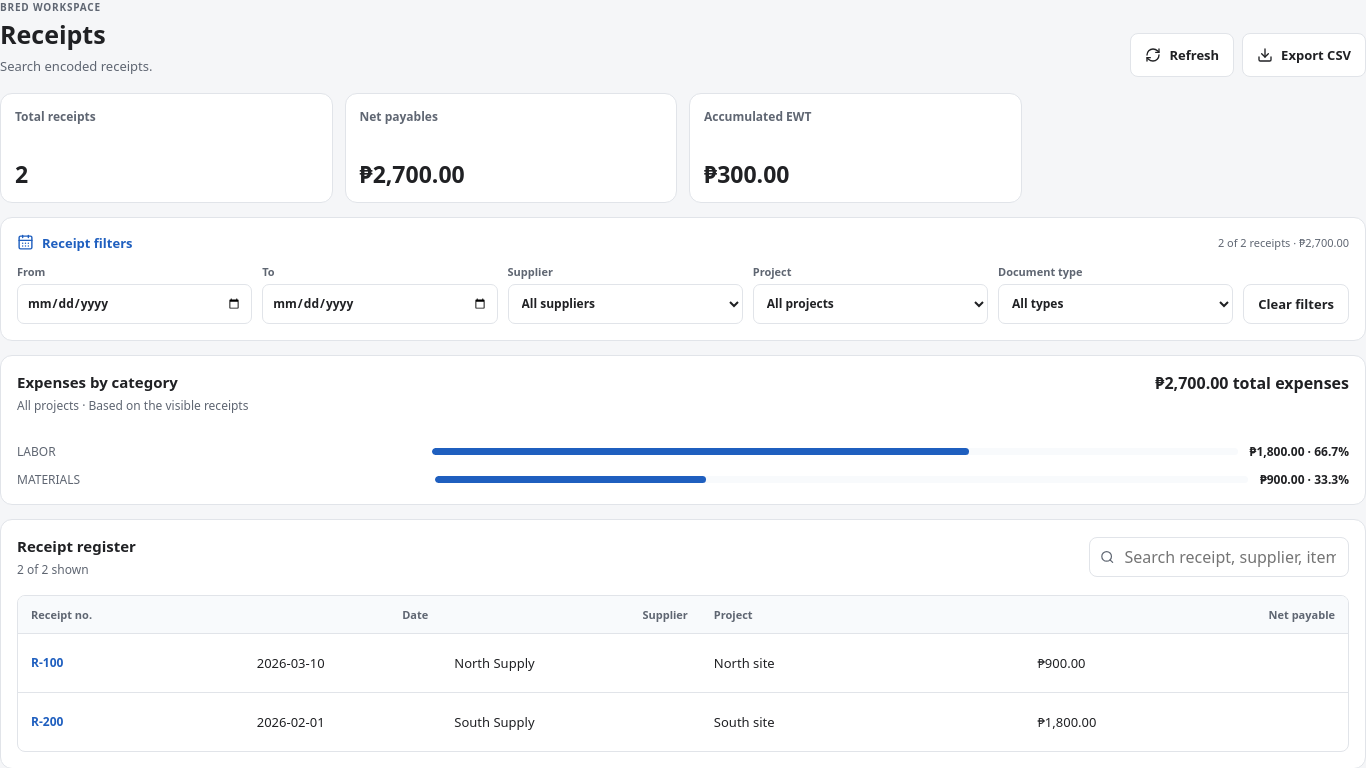
Test: ModuleWorkspace › limits expense classification totals and net payable metrics to the selected project
expect the heading "Expenses by category" is shown: met, box [17,372,178,392]
Step 1. Select "North site" in the dropdown named "Filter by project" → (870, 304), box [753,284,988,324]
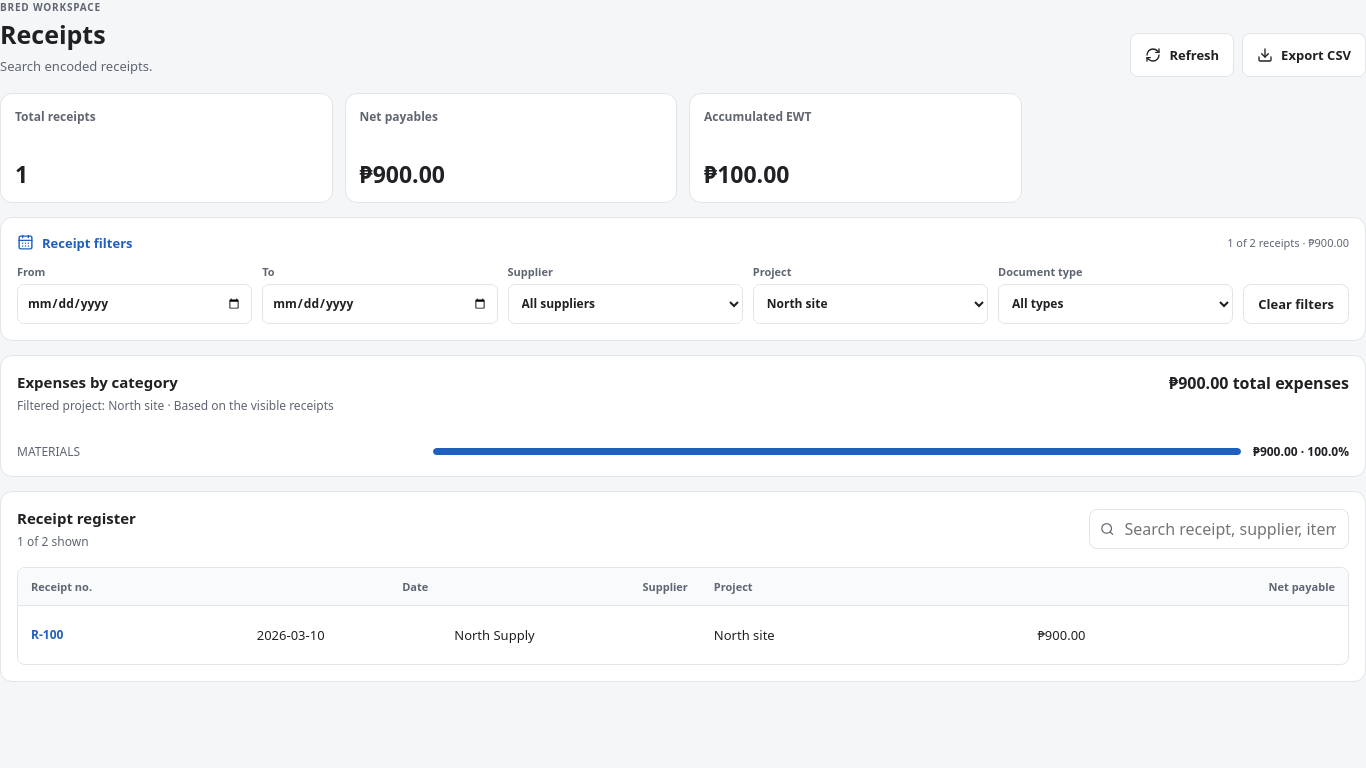
expect the text "Filtered project: North site · Based on the visible receipts" is shown: met, box [17,397,334,415]
expect the text "₱900.00 total expenses" is shown: met, box [1169,372,1349,394]
expect the text "₱900.00 · 100.0%" is shown: met, box [1253,443,1349,460]
